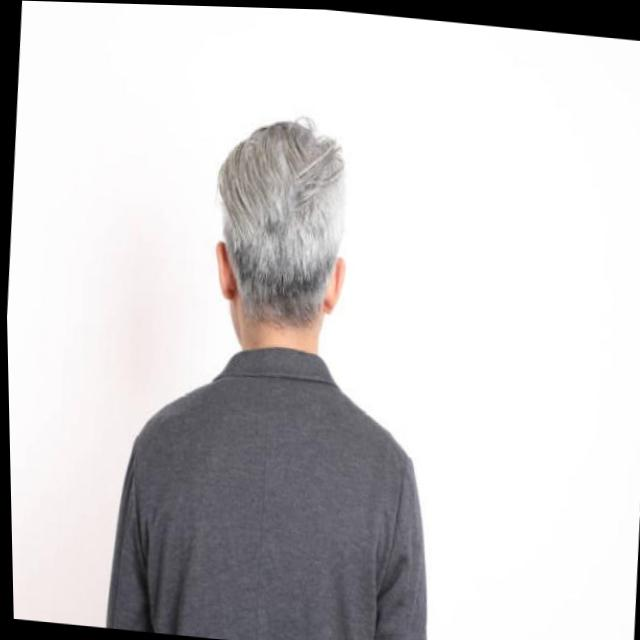no helmet: (205, 107, 363, 345)
